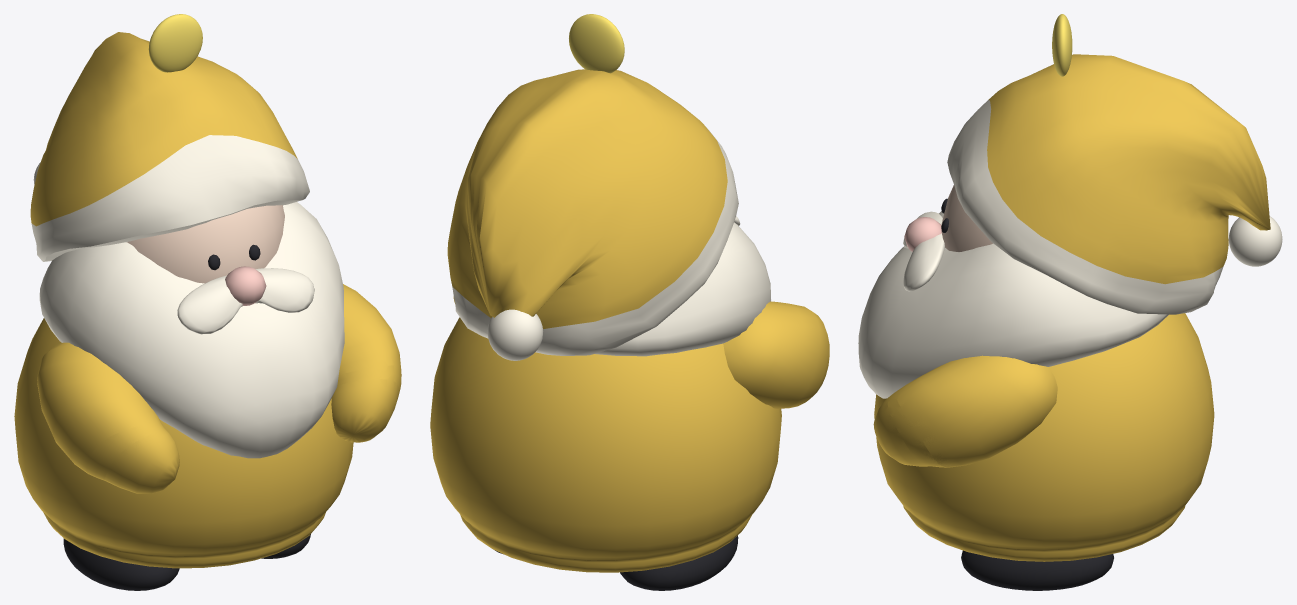
File: golden.glb
3 views of the same model, side by side, from view 1: azimuth 30°, elevation 25°; view 2: azimuth 150°, elevation 25°; view 3: azimuth 270°, elevation 25° (orthographic). The views are drawn at different scales.
Parts seen in each view (by area): view 1: golden_red, golden_white, golden_skin, golden_black, golden_yellow, golden_nose; view 2: golden_red, golden_white, golden_yellow, golden_black; view 3: golden_red, golden_white, golden_black, golden_skin, golden_yellow, golden_nose.
Part boxes in pixels (x1,y1,x2,y2): golden_red: (14, 32, 401, 568); golden_white: (31, 135, 344, 458); golden_skin: (127, 205, 284, 283); golden_black: (63, 244, 310, 590); golden_yellow: (148, 14, 202, 72); golden_nose: (225, 266, 266, 305); golden_red: (430, 69, 829, 572); golden_white: (452, 127, 770, 360); golden_yellow: (569, 14, 624, 73); golden_black: (495, 535, 738, 590); golden_red: (873, 54, 1270, 561); golden_white: (858, 100, 1282, 398); golden_black: (941, 198, 1113, 590); golden_skin: (941, 185, 992, 251); golden_yellow: (1052, 14, 1072, 76); golden_nose: (904, 217, 941, 251).
Bounding box in the file's own units: 2.14 × 3.26 × 2.37.
